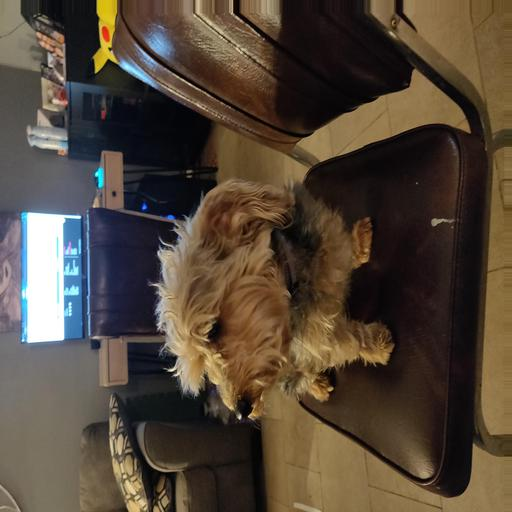dog: (152, 183, 389, 420)
